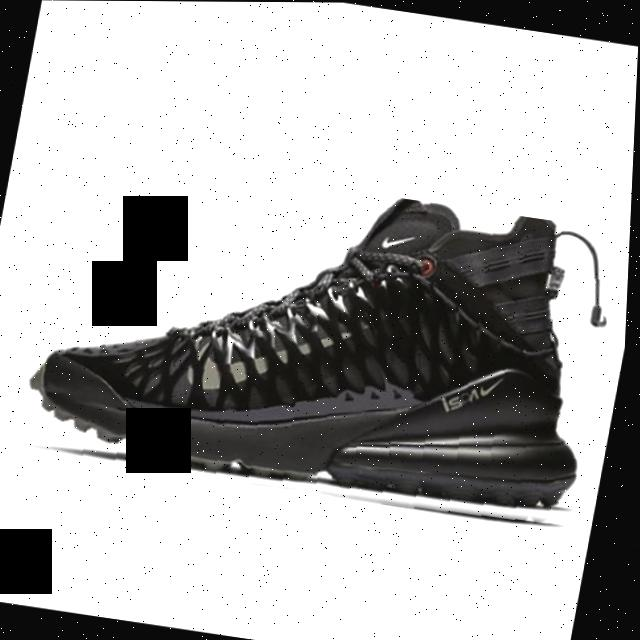shoe: (0, 146, 629, 542)
